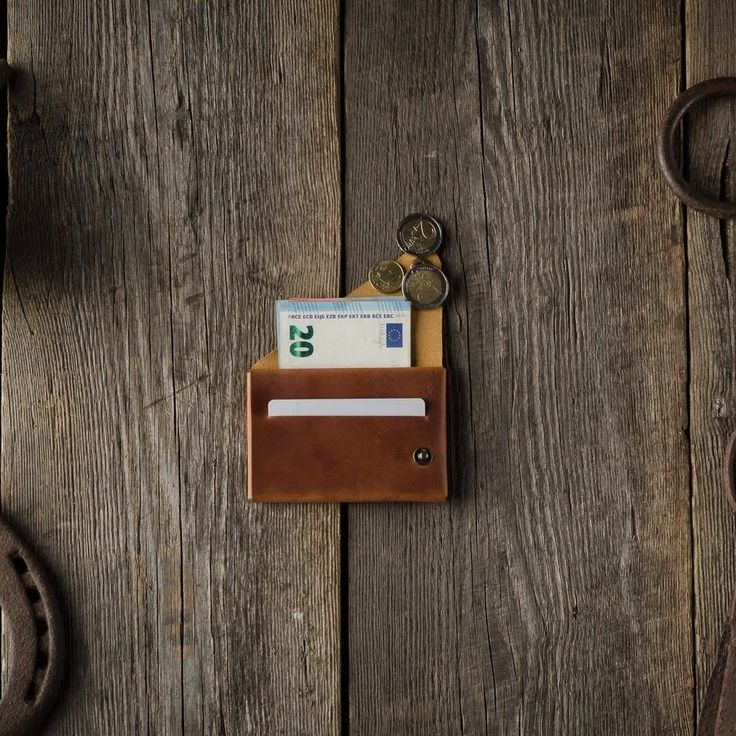cuero: (245, 367, 449, 503)
